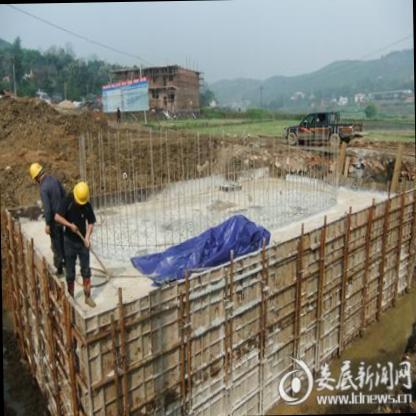helmet: (70, 178, 92, 212), (27, 158, 48, 188)
